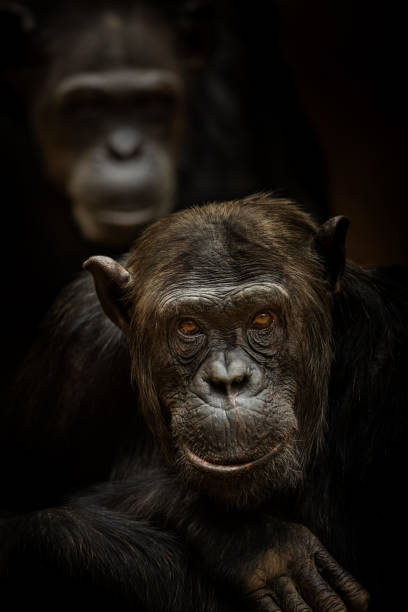chimpanzee: (70, 180, 369, 517)
